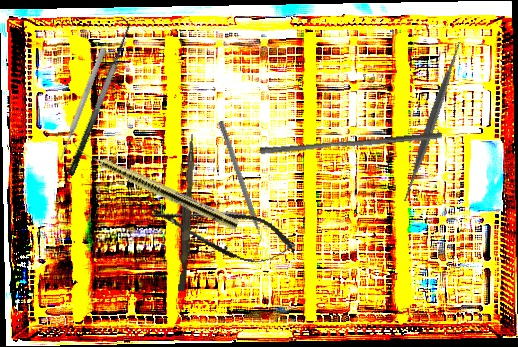Chopper: (211, 120, 266, 249)
Handpiece: (68, 140, 241, 232)
Micro Scissor: (144, 189, 301, 275)
Pusher: (259, 124, 443, 162), (56, 46, 108, 162), (178, 133, 195, 292)
Spatula Surgical: (349, 38, 516, 205), (54, 16, 139, 177)
